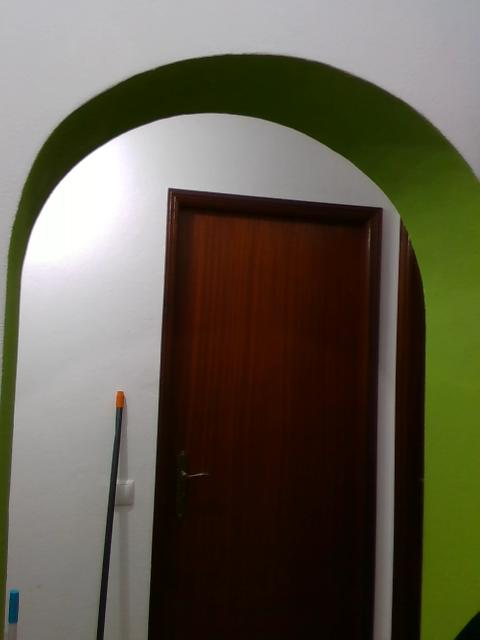door: (162, 207, 365, 640)
